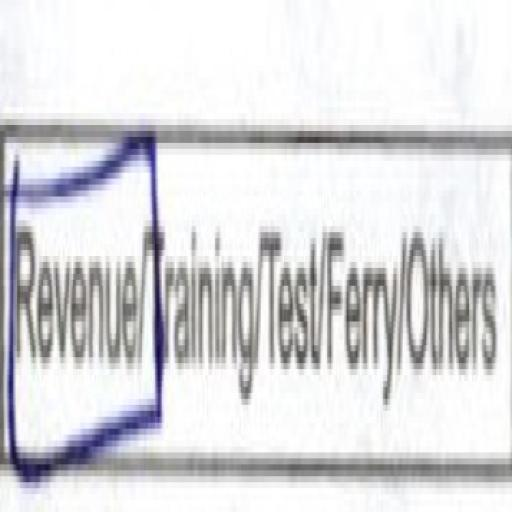check: (1, 60, 142, 504)
